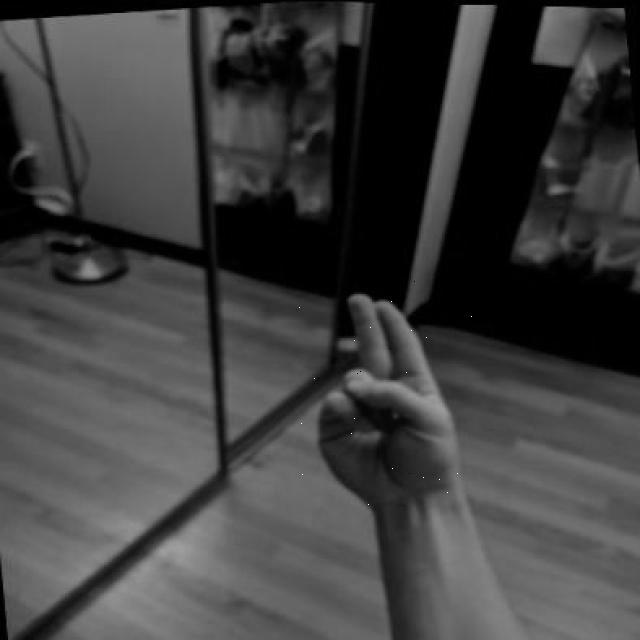U: (296, 277, 472, 521)
